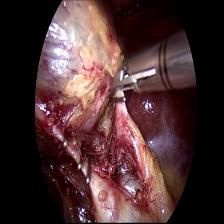Clipper: (106, 47, 168, 102)
